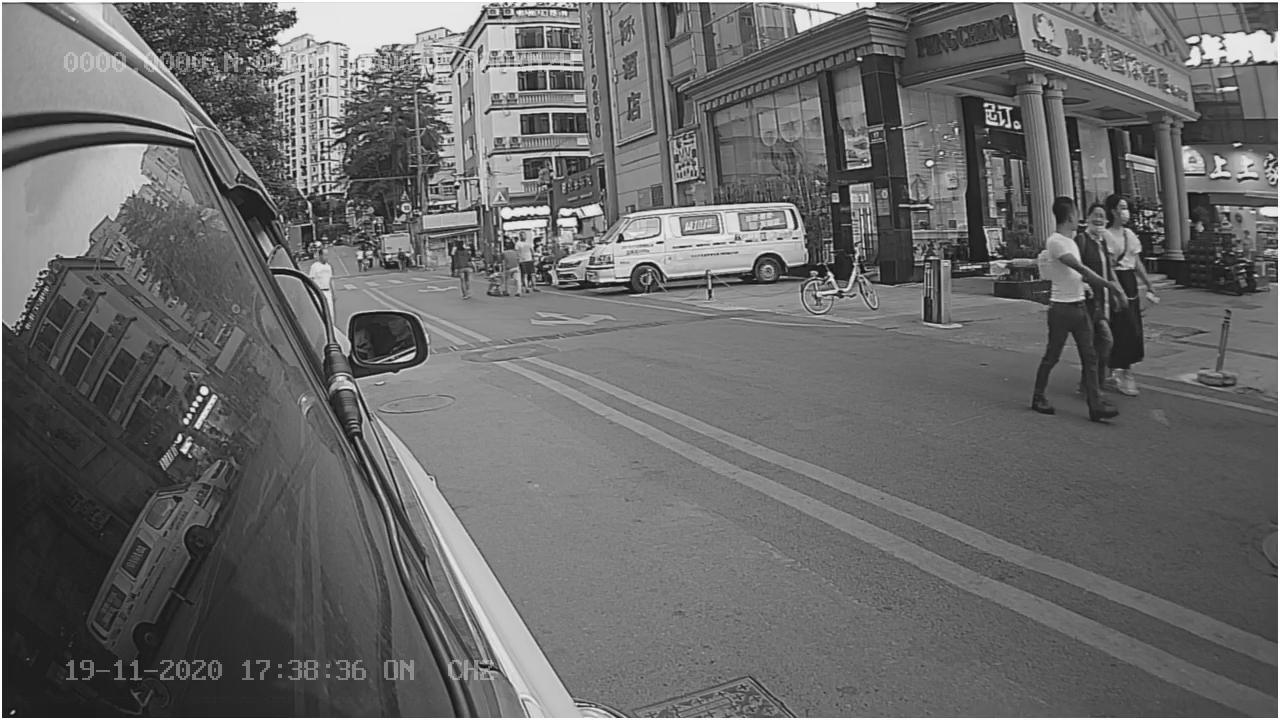person: (1021, 194, 1129, 432)
